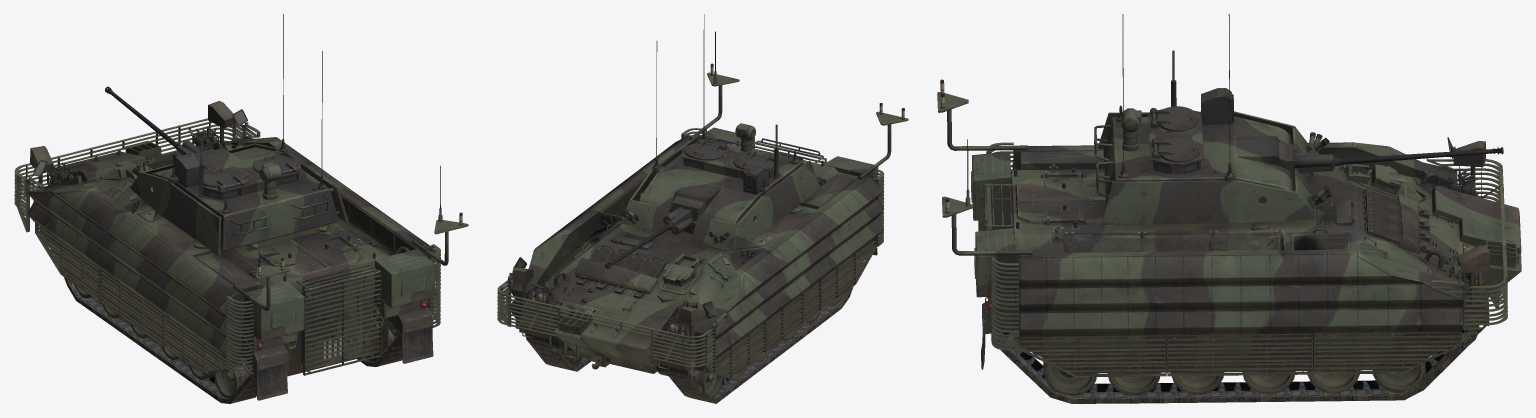
3 renders of one model, left to right at view 1: azimuth 30°, elevation 25°; view 2: azimuth 150°, elevation 25°; view 3: azimuth 270°, elevation 25°, orthographic. The views are drawn at different scales.
Parts seen in each view (by area): view 1: Main_Tank, Track; view 2: Main_Tank, Track; view 3: Main_Tank, Track.
Boxes of the visible parts, x1,y1,x2,y2 form: Main_Tank: [14, 14, 468, 400]; Track: [64, 273, 402, 403]; Main_Tank: [497, 14, 908, 398]; Track: [525, 286, 853, 403]; Main_Tank: [937, 14, 1521, 396]; Track: [996, 325, 1479, 403].
Bounding box in the file's own units: 386 × 497 × 721.
2 materials, 2 textured.
